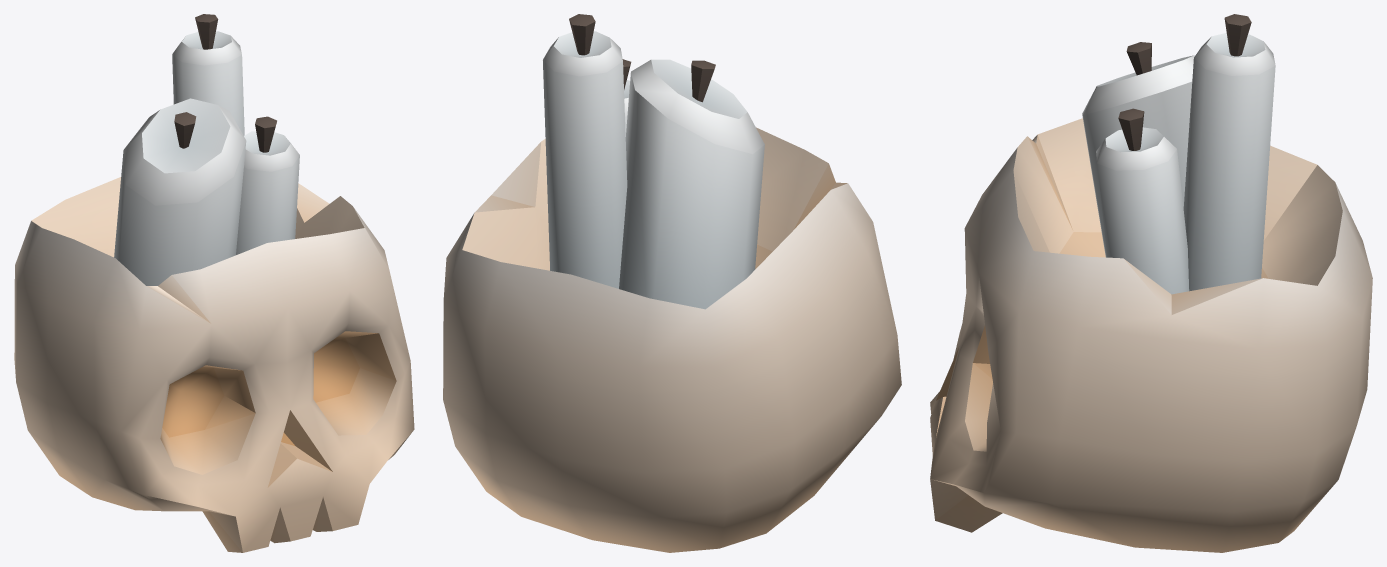
The model's file is skull_candle.glb.
The picture shows the model from 3 angles, left to right: view 1: azimuth 30°, elevation 25°; view 2: azimuth 150°, elevation 25°; view 3: azimuth 270°, elevation 25°; orthographic projection. The views are drawn at different scales.
Parts seen in each view (by area): view 1: skull_candle; view 2: skull_candle; view 3: skull_candle.
Boxes of the visible parts, x1=… form: skull_candle: x1=14, y1=14, x2=414, y2=552; skull_candle: x1=443, y1=14, x2=901, y2=552; skull_candle: x1=930, y1=14, x2=1372, y2=552.
Bounding box in the file's own units: 0.9176 × 1.19 × 0.9361.
1 material, 1 textured.
